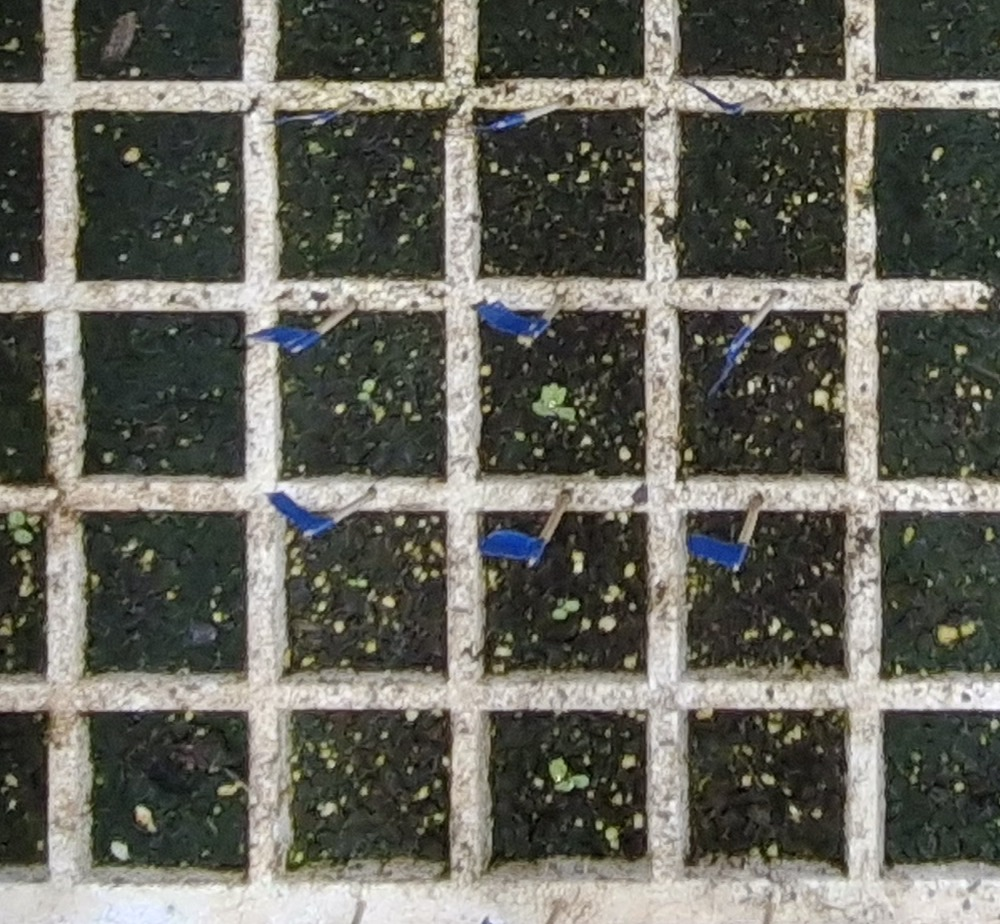Folha: (541, 382, 566, 404), (548, 756, 567, 780), (531, 400, 557, 416), (555, 407, 576, 421), (15, 529, 33, 544), (8, 512, 26, 526), (552, 606, 569, 620), (553, 779, 572, 791), (570, 776, 588, 788), (363, 379, 376, 393), (565, 600, 579, 612), (358, 392, 371, 400), (357, 580, 368, 588)
Germinacao: (531, 383, 574, 421), (548, 757, 591, 791), (7, 511, 33, 544), (552, 600, 580, 620), (358, 378, 376, 401), (348, 572, 369, 588)
